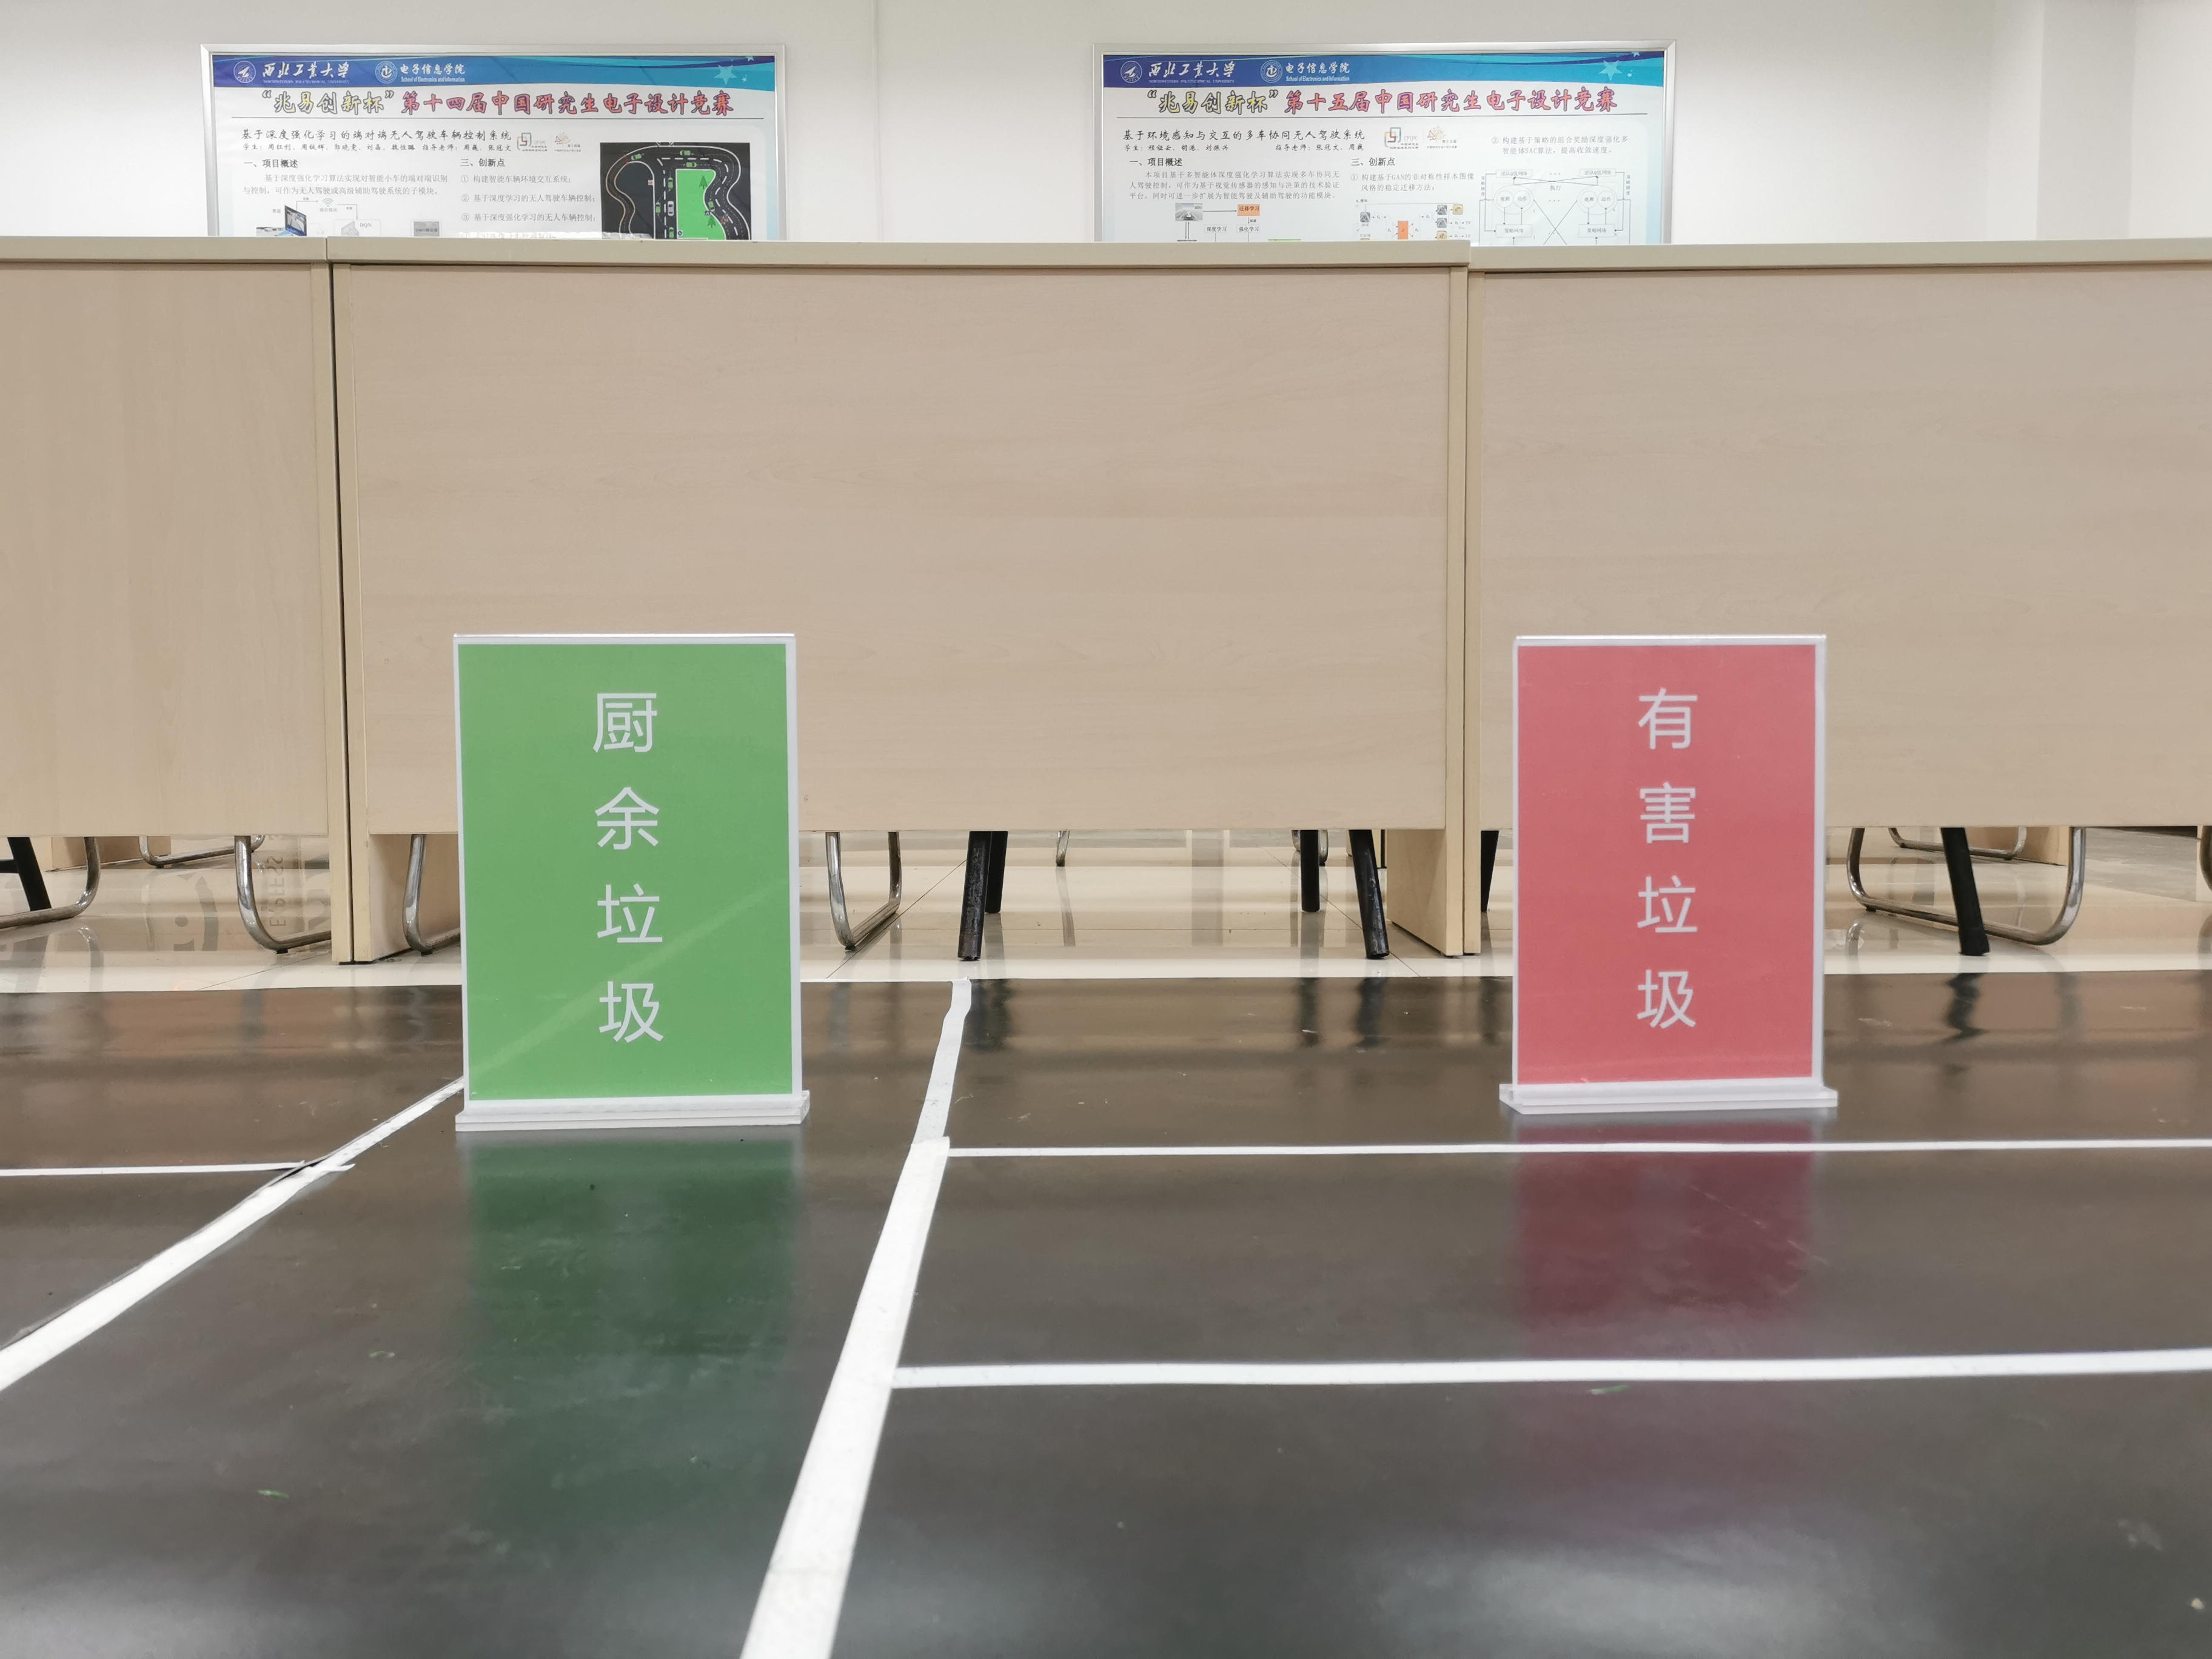green: (470, 652, 780, 1093)
red: (1526, 648, 1815, 1073)
